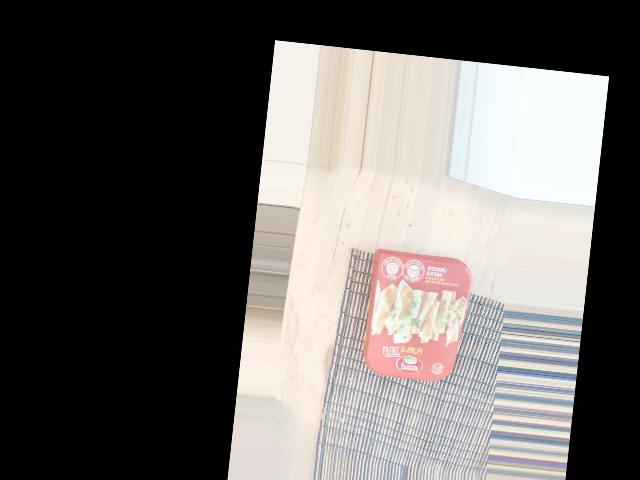cheese: (353, 333, 494, 435)
